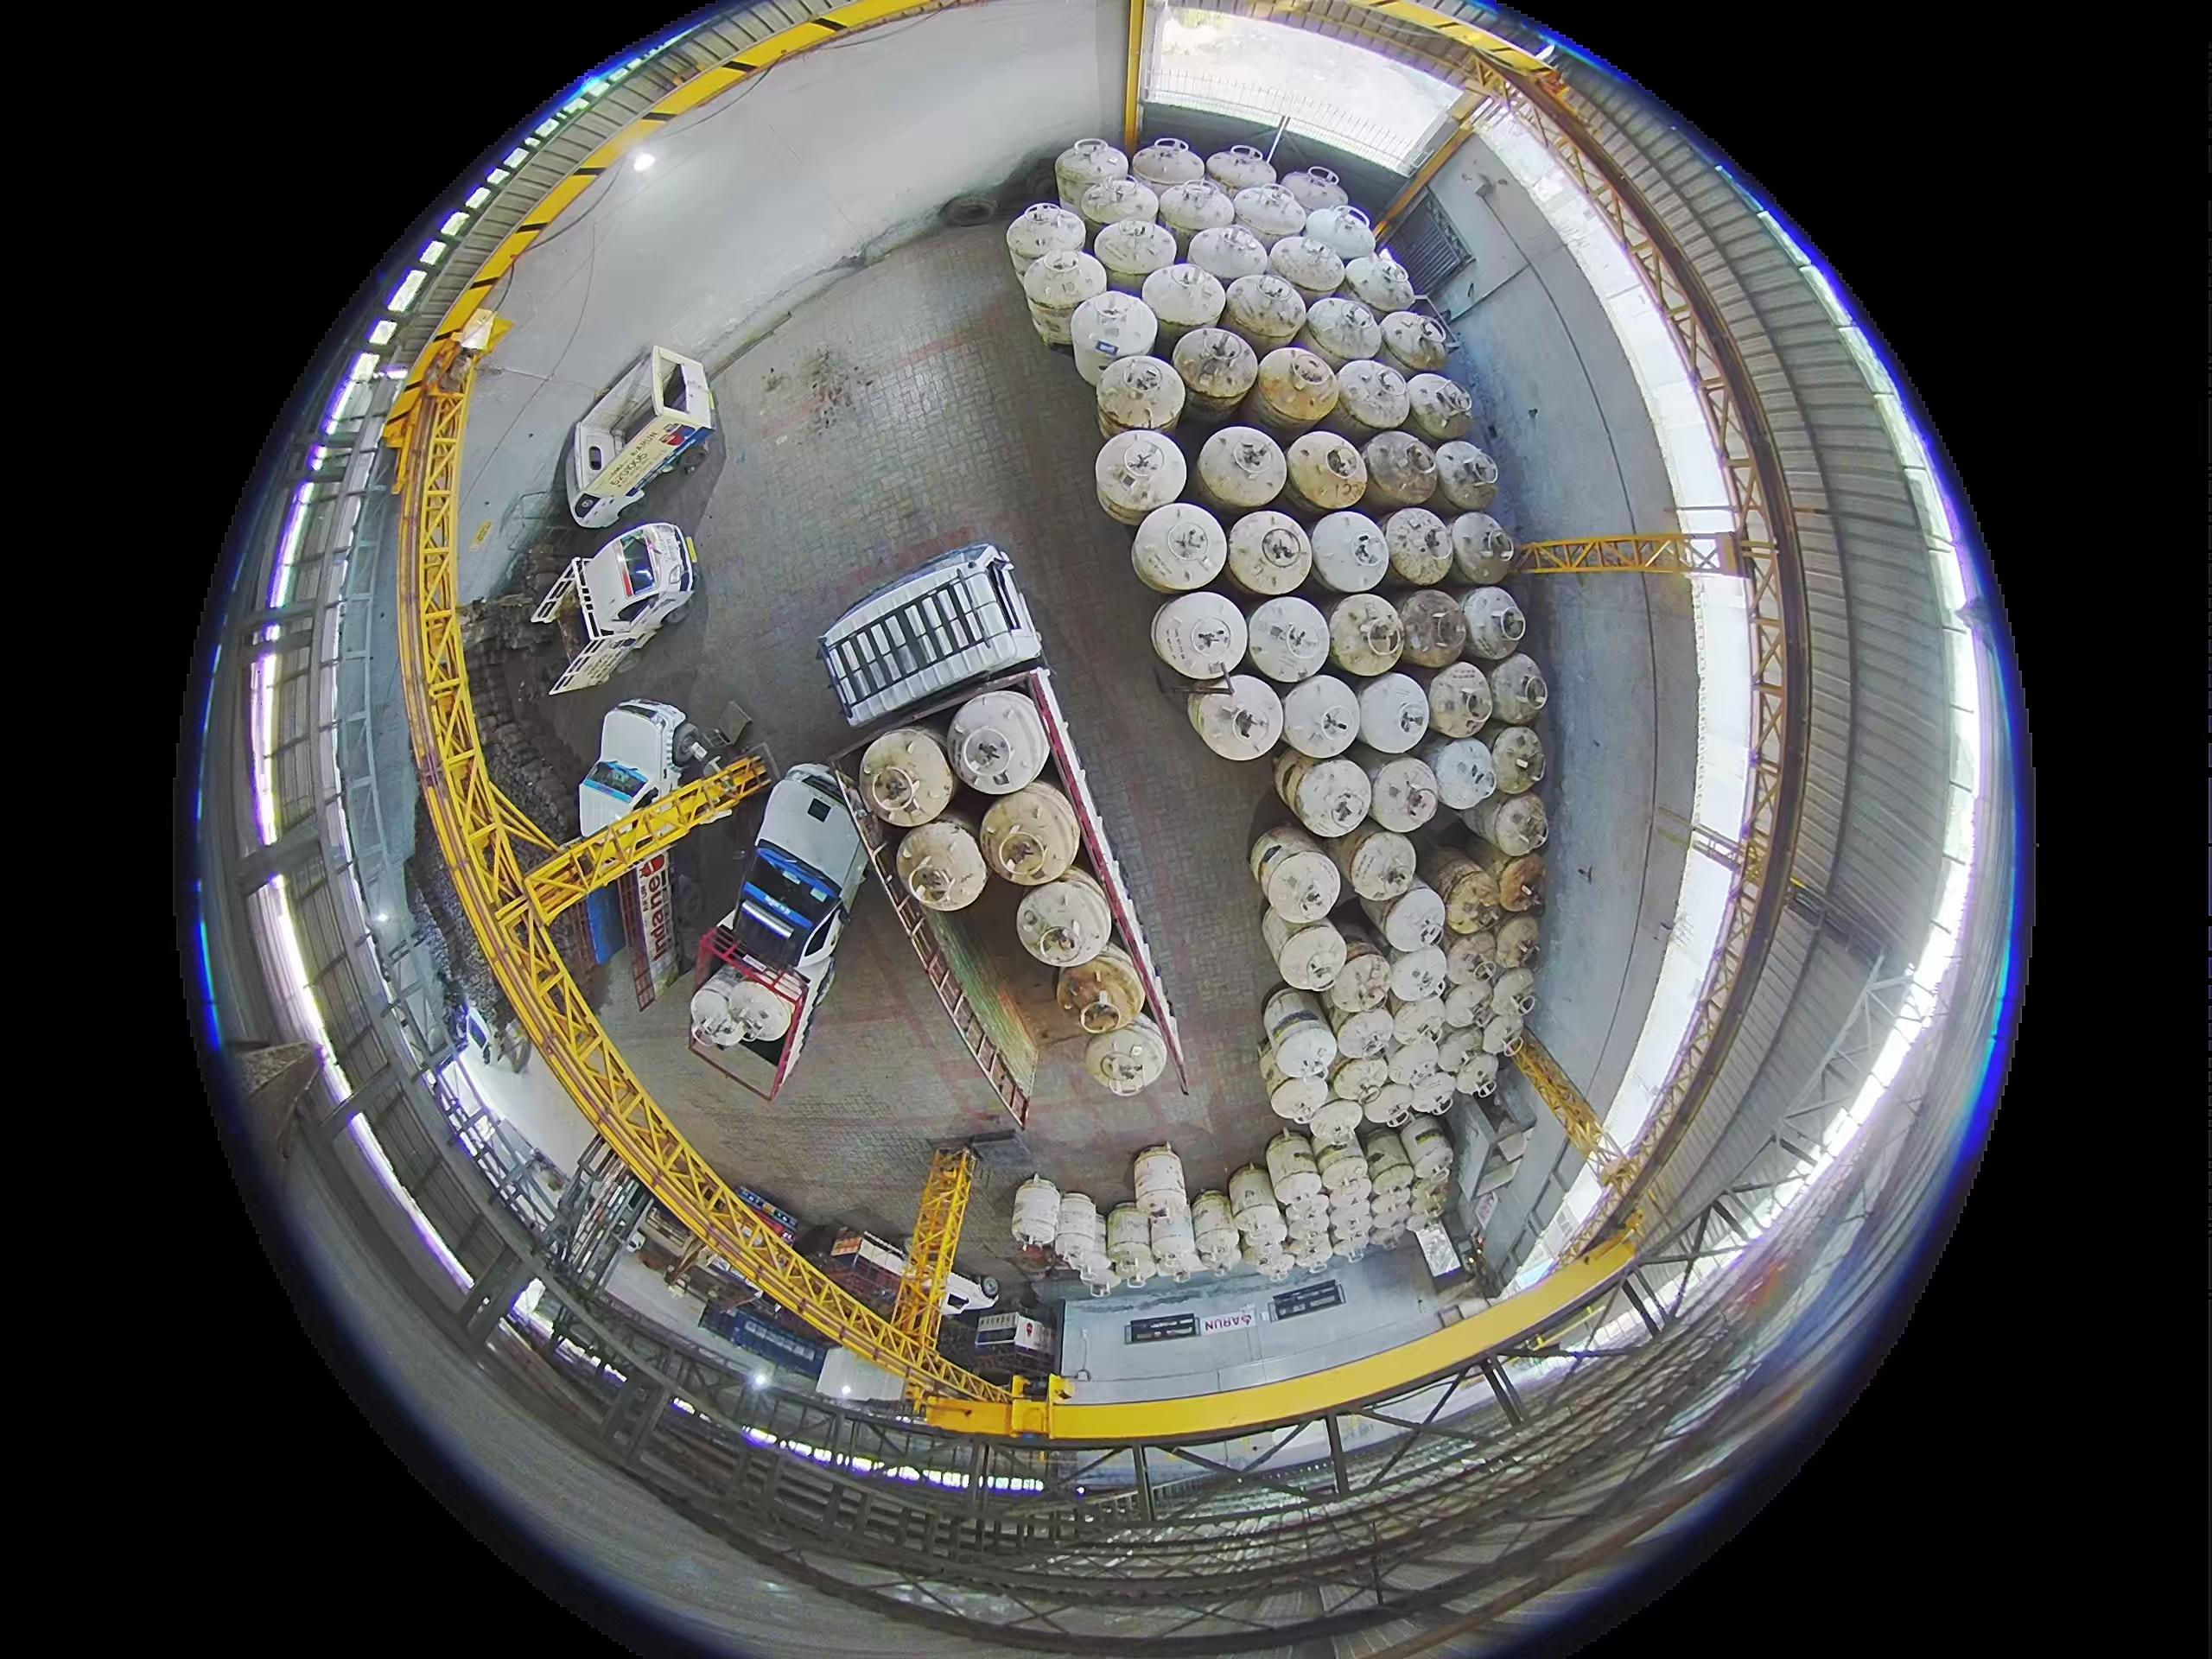cylinder: (859, 725, 961, 828), (949, 692, 1050, 795), (1096, 429, 1197, 526), (1015, 870, 1111, 969), (888, 829, 1007, 908), (1132, 502, 1230, 596), (981, 789, 1075, 884), (1151, 591, 1249, 681), (1190, 676, 1284, 762), (1019, 253, 1103, 349), (1197, 425, 1287, 512), (1245, 594, 1332, 683), (1057, 948, 1144, 1035), (1228, 511, 1315, 598), (1278, 674, 1366, 762), (1069, 291, 1151, 382), (1172, 326, 1259, 408), (1308, 509, 1392, 592), (1097, 354, 1183, 436), (1285, 430, 1367, 514), (1256, 345, 1339, 427), (1291, 756, 1374, 836), (1339, 823, 1420, 904), (1221, 272, 1306, 349), (1141, 261, 1224, 338), (1327, 594, 1406, 674), (1355, 673, 1432, 755), (1364, 429, 1440, 511), (1395, 587, 1472, 669), (1383, 507, 1458, 587), (1303, 295, 1385, 368), (1334, 357, 1411, 434), (1425, 659, 1498, 739), (1367, 755, 1442, 831), (1188, 221, 1273, 288), (1157, 178, 1235, 249), (1428, 737, 1500, 812), (1379, 880, 1451, 955), (1007, 202, 1083, 272), (1096, 216, 1176, 282), (1402, 371, 1474, 444), (1460, 586, 1529, 660), (1379, 310, 1454, 380), (1082, 178, 1160, 244), (1432, 441, 1501, 514), (1055, 139, 1129, 209), (1268, 234, 1346, 298), (1449, 511, 1517, 584), (1231, 183, 1308, 247), (1301, 204, 1378, 267), (1324, 941, 1392, 1011), (1343, 251, 1416, 314), (1129, 138, 1204, 199), (1386, 943, 1453, 1011), (1440, 868, 1505, 938), (690, 972, 747, 1049), (1385, 1037, 1451, 1101), (1486, 653, 1548, 721), (1487, 793, 1550, 857), (1332, 1002, 1397, 1065), (1487, 725, 1547, 793), (1400, 1115, 1454, 1188), (1442, 932, 1503, 997), (1207, 145, 1277, 197), (1280, 166, 1348, 218), (1331, 1049, 1392, 1107), (1360, 1127, 1414, 1192), (1388, 995, 1449, 1051), (1440, 978, 1498, 1033), (1494, 854, 1547, 913), (1432, 1019, 1484, 1079), (1355, 1082, 1416, 1133), (1493, 913, 1543, 972), (1273, 749, 1320, 812), (1480, 1007, 1533, 1061), (1491, 965, 1538, 1021), (1453, 1049, 1500, 1100), (1407, 1176, 1454, 1225), (1366, 1185, 1411, 1230), (1367, 1216, 1407, 1249), (1496, 1127, 1533, 1162)
truck: (827, 572, 1205, 1154), (690, 763, 869, 1100), (495, 558, 726, 692), (559, 347, 716, 528), (745, 760, 871, 913), (578, 701, 685, 836), (611, 847, 679, 1009), (1132, 1192, 1242, 1277), (1264, 1131, 1325, 1220), (451, 999, 496, 1066), (622, 1227, 646, 1255)
